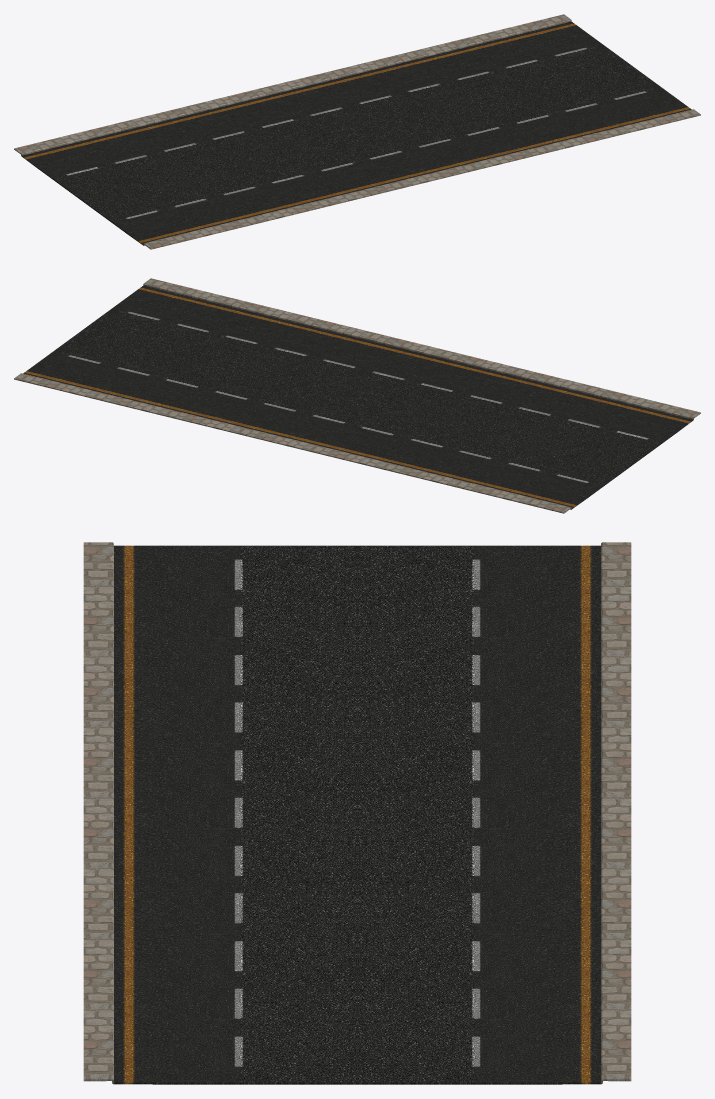
Rendered from modular-city-road-pack-game-ready-4in-2-007-6.glb.
3 views of the same model, one above another, from view 1: azimuth 30°, elevation 25°; view 2: azimuth 150°, elevation 25°; view 3: azimuth 270°, elevation 25° (orthographic). The views are drawn at different scales.
Parts seen in each view (by area): view 1: 4in 2.007_6; view 2: 4in 2.007_6; view 3: 4in 2.007_6.
Boxes of the visible parts, <box> form: 4in 2.007_6: <box>14,14,700,249</box>; 4in 2.007_6: <box>14,278,700,513</box>; 4in 2.007_6: <box>83,542,631,1084</box>.
Bounding box in the file's own units: 10.93 × 0.0526 × 4.71.
2 materials, 2 textured.
